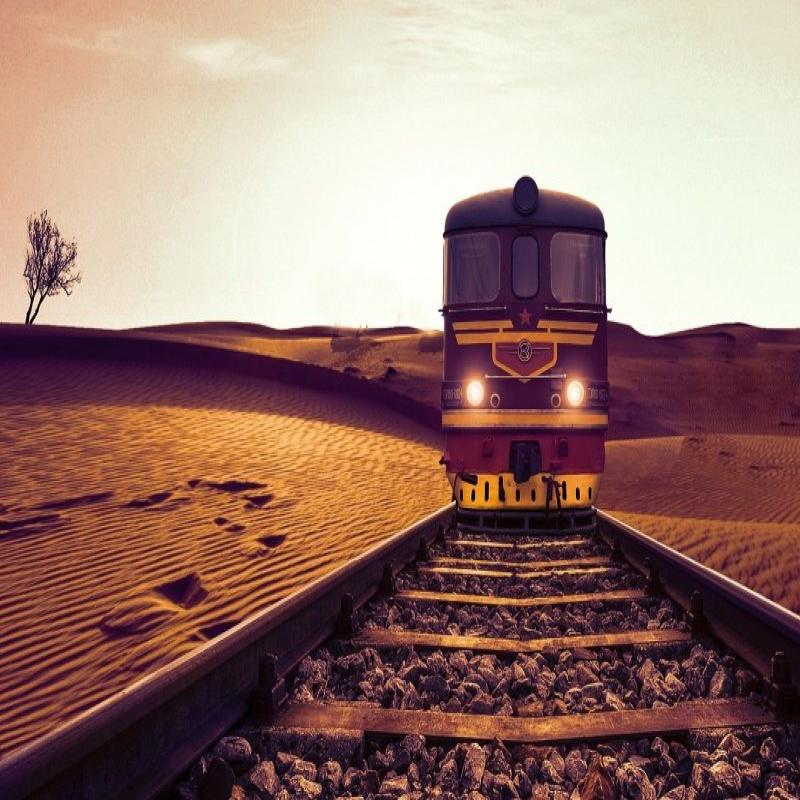train: (444, 176, 608, 548)
